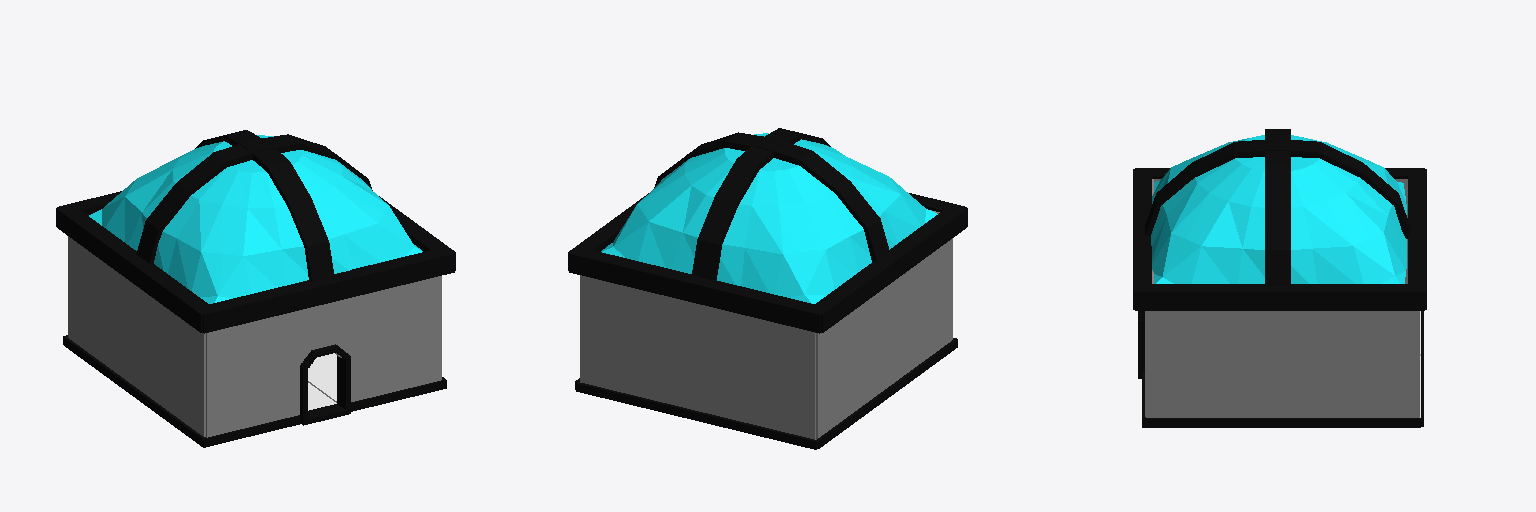
The picture shows the model from 3 angles: view 1: azimuth 30°, elevation 25°; view 2: azimuth 150°, elevation 25°; view 3: azimuth 270°, elevation 25°; orthographic projection.
Parts seen in each view (by area): view 1: base_line128, Sphere001, Box001, base_line129, base_floor001; view 2: base_line128, Sphere001, Box001, base_line129; view 3: base_line128, Sphere001, Box001, base_line129.
Boxes of the visible parts, <box> form: base_line128: <box>68,236,441,437</box>; Sphere001: <box>89,135,422,303</box>; Box001: <box>56,130,455,333</box>; base_line129: <box>63,335,446,447</box>; base_floor001: <box>308,353,336,410</box>; base_line128: <box>580,210,952,439</box>; Sphere001: <box>601,133,937,303</box>; Box001: <box>568,128,967,333</box>; base_line129: <box>575,338,957,449</box>; base_line128: <box>1145,179,1419,417</box>; Sphere001: <box>1151,135,1406,283</box>; Box001: <box>1133,129,1426,310</box>; base_line129: <box>1138,311,1423,427</box>.
Size of the model in its own units: 0.8015 by 0.6727 by 0.8024.